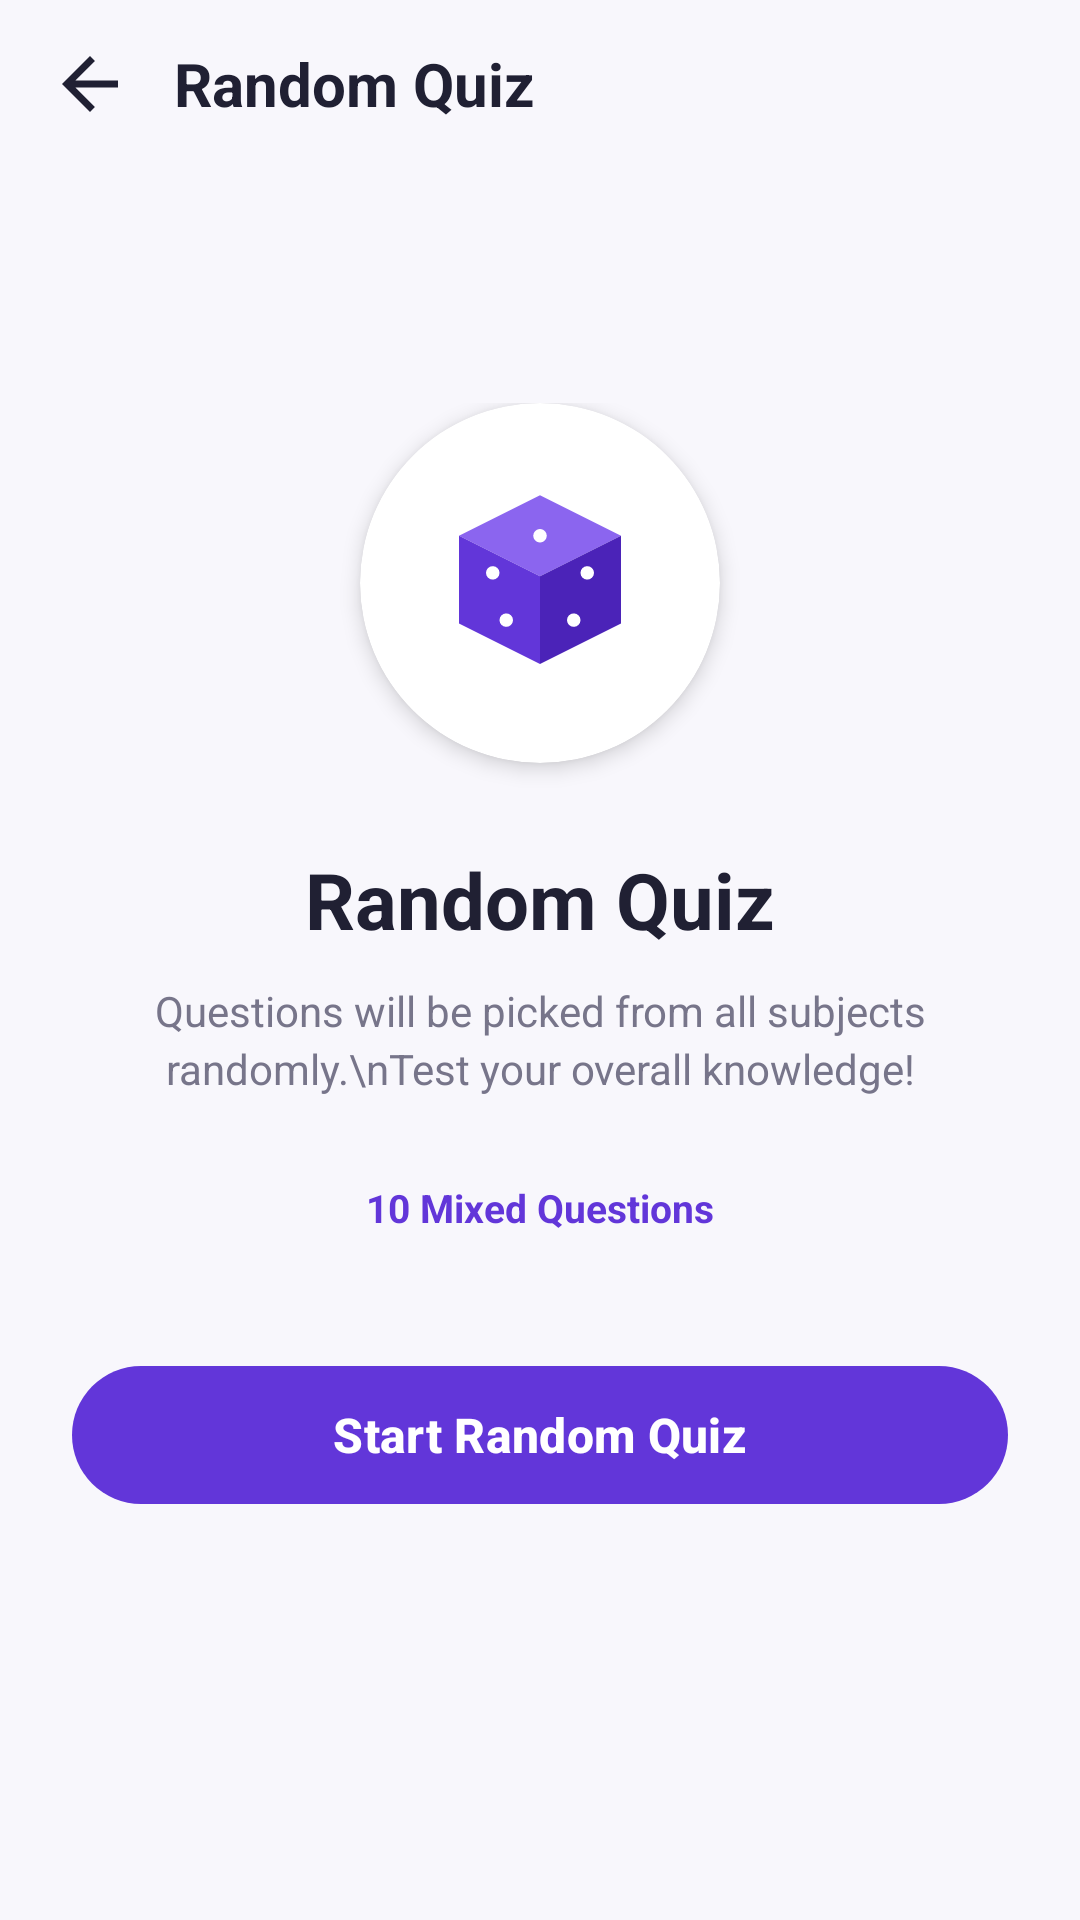

Point at icon controls on the screen. Image size 1080*1920, points as point (x, y).
Back: point (90, 84)
Random Quiz Dice: point (540, 579)
